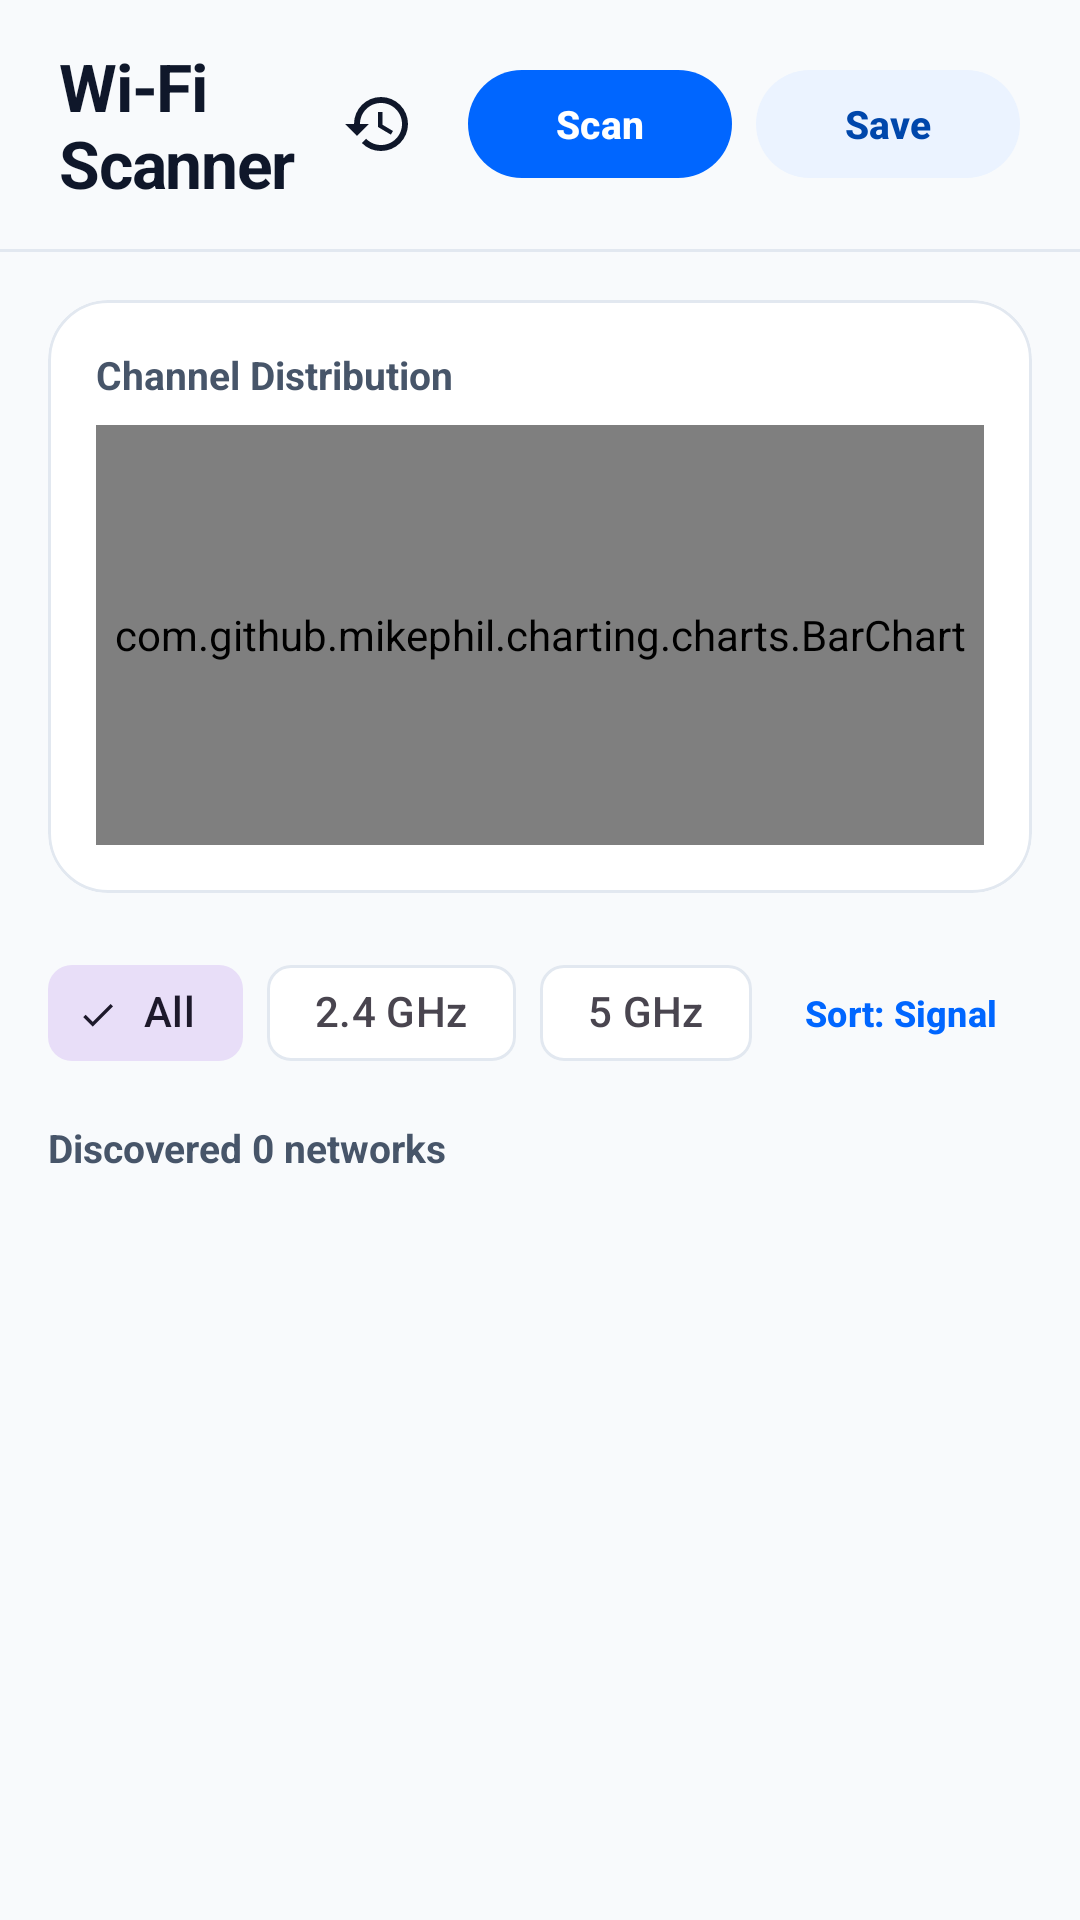

Icons on this 1080px×1920px Android screen, each with its box as (x1, y1, x2, y2):
History: (345, 97, 408, 151)
